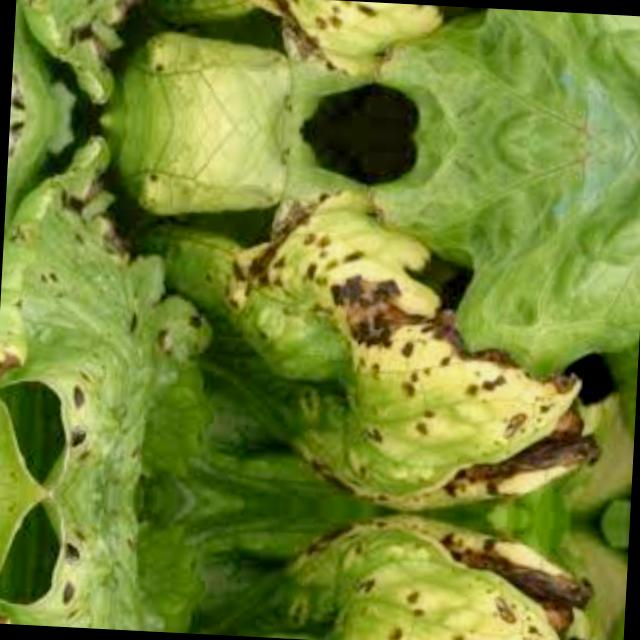Lettuce - Anthracnose: (0, 175, 612, 522), (0, 491, 595, 640), (14, 0, 622, 85)
